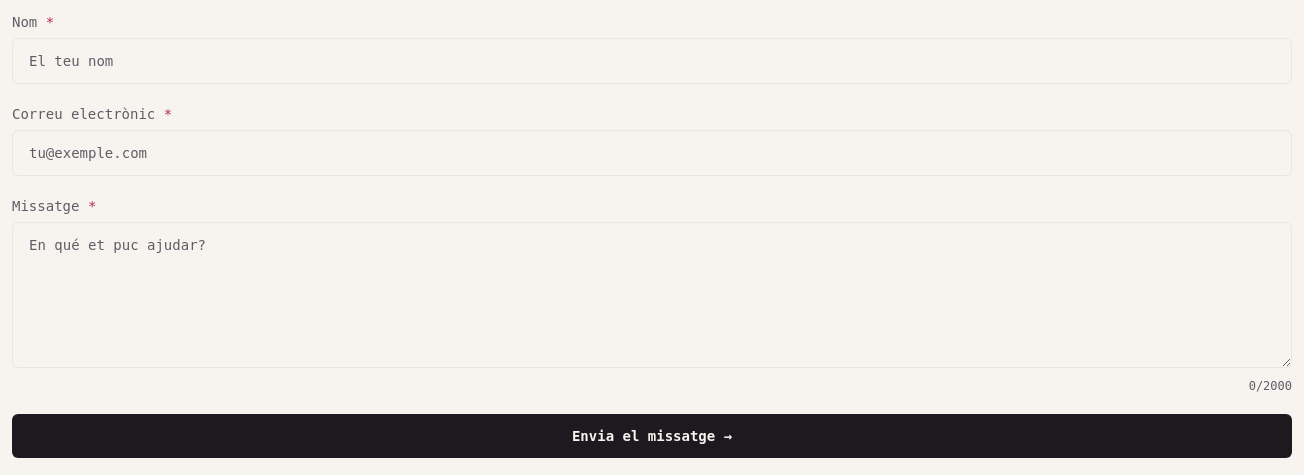
Test: ContactForm — initial render › updates character counter as user types in message
Step 1. Type "Hola" into the text box labelled "Missatge *" → point(652, 295), box [12,222,1292,368]
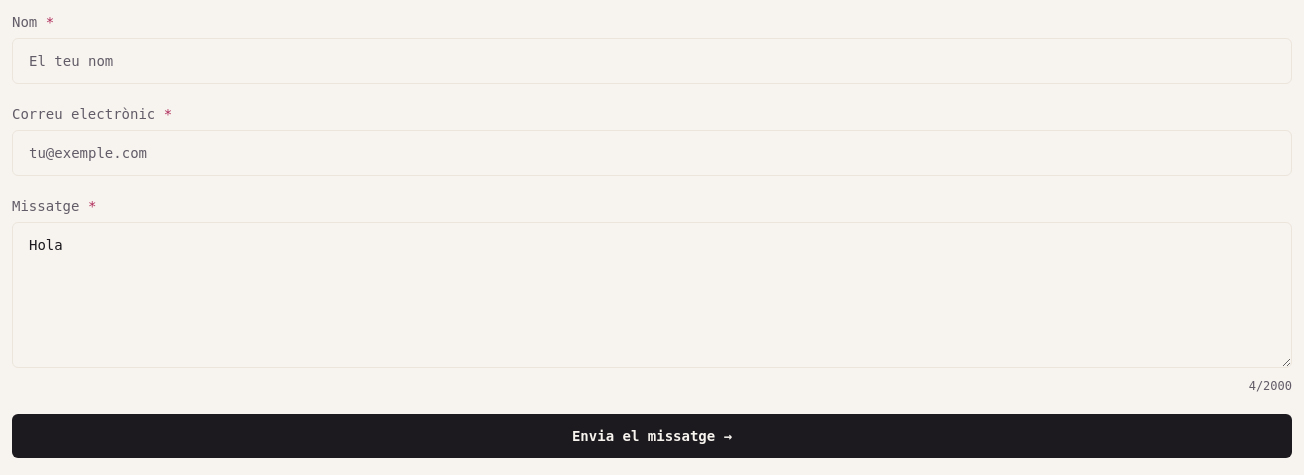
Check: the text "4/2000" is shown, box [1249,379,1292,393]
